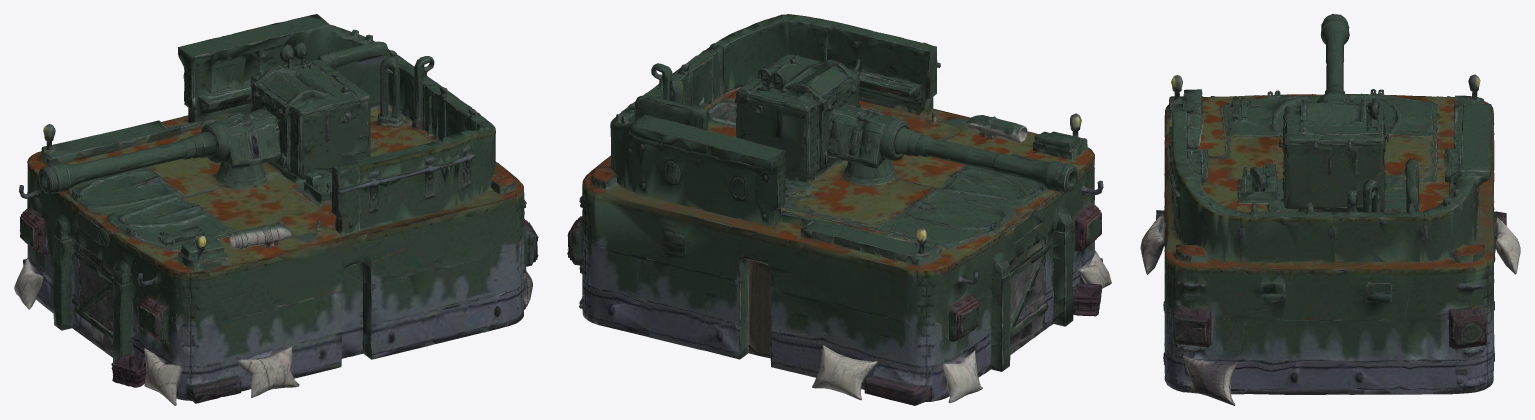
Rendered from bastion.glb.
The picture shows the model from 3 angles, left to right: view 1: azimuth 30°, elevation 25°; view 2: azimuth 150°, elevation 25°; view 3: azimuth 270°, elevation 25°; orthographic projection. The views are drawn at different scales.
Parts seen in each view (by area): view 1: Mesh_0; view 2: Mesh_0; view 3: Mesh_0.
Part boxes in pixels (x1,y1,x2,y2): Mesh_0: [14, 14, 538, 405]; Mesh_0: [567, 14, 1111, 405]; Mesh_0: [1140, 14, 1520, 405].
Size of the model in its own units: 1.9 by 0.9728 by 1.47.
Materials: 1 (1 with a texture image).
